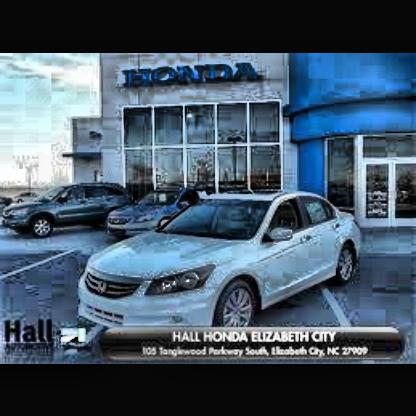Honda Accord Sedan 2012: (79, 194, 363, 328)
